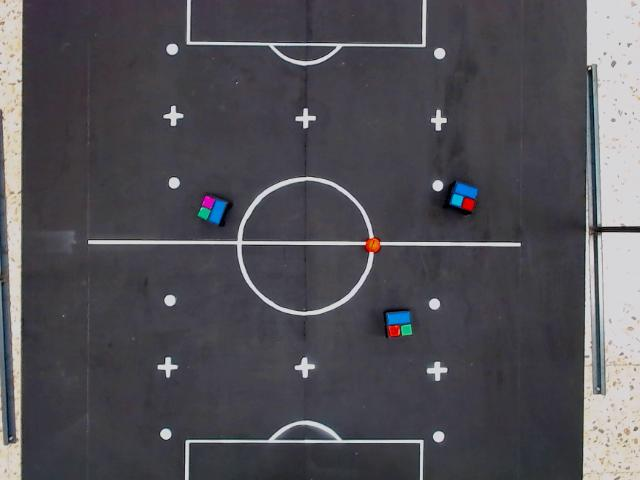robot: (194, 192, 230, 228), (447, 179, 481, 214), (385, 310, 416, 339)
